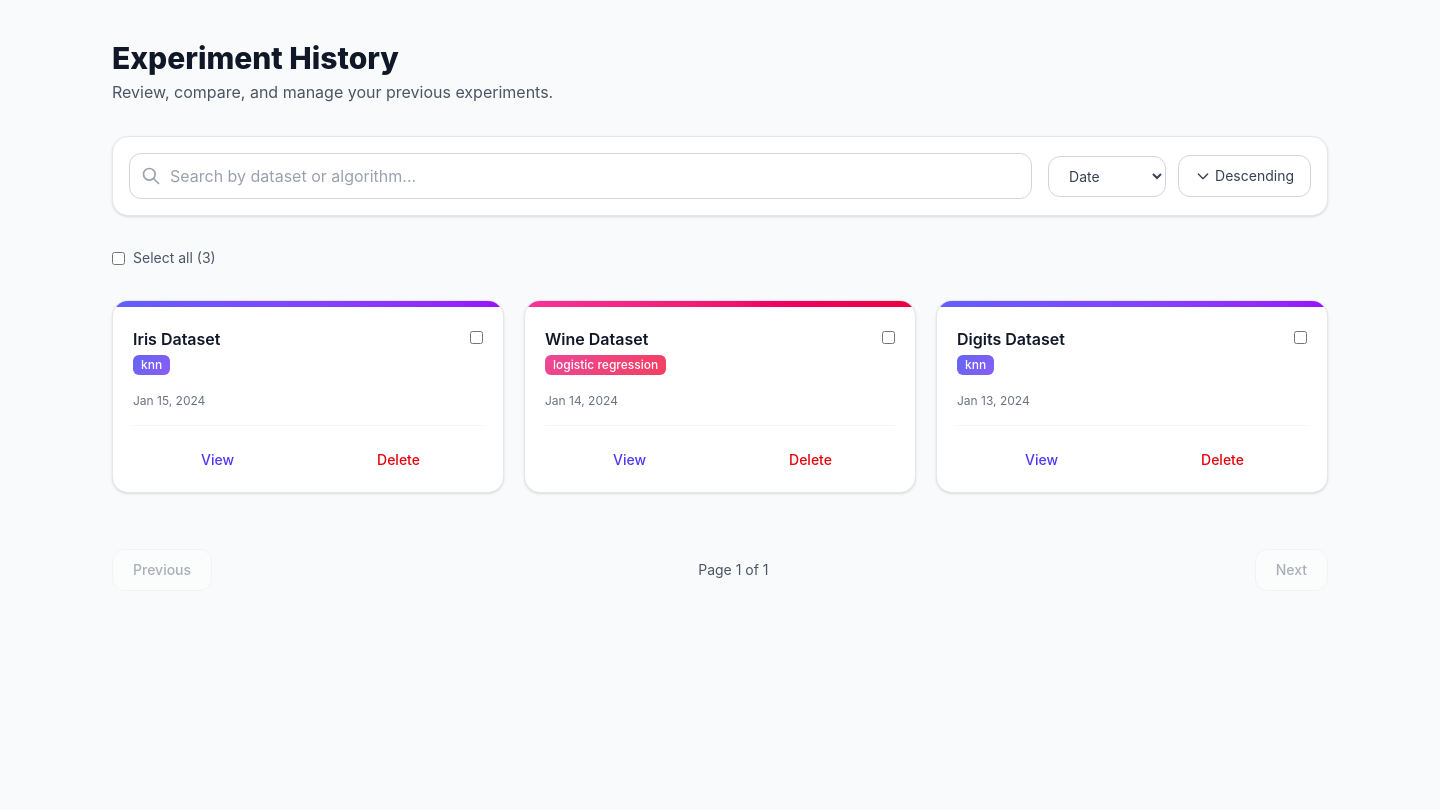
HistoryList › Floating Compare Bar › shows floating compare bar when items are selected
Check: the heading "Iris Dataset" is shown, box [133,329,220,349]
Click the checkbox in the row of "Iris Dataset" at (476, 338), box [470,331,483,344]
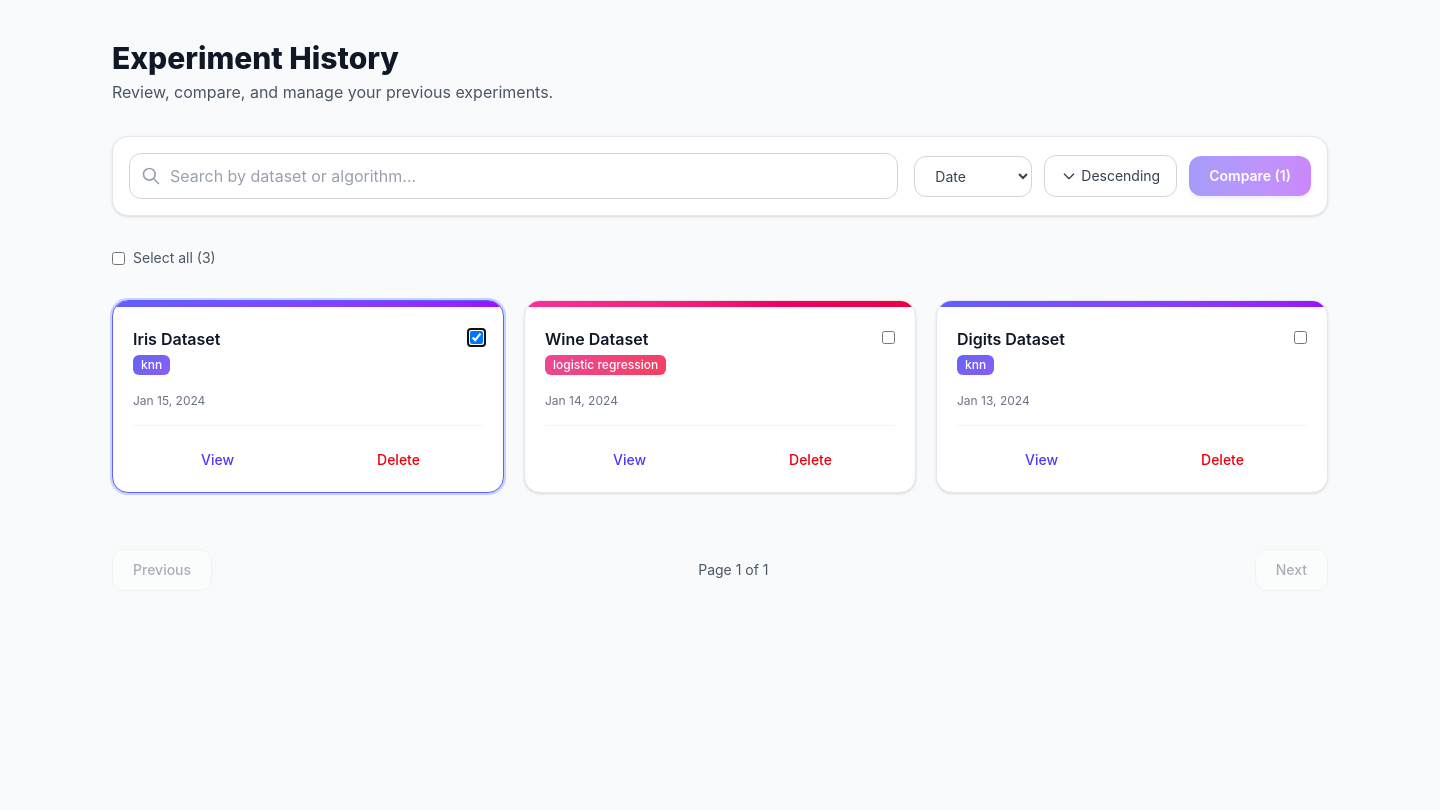
Click the checkbox in the row of "Wine Dataset" at (888, 338), box [882,331,895,344]
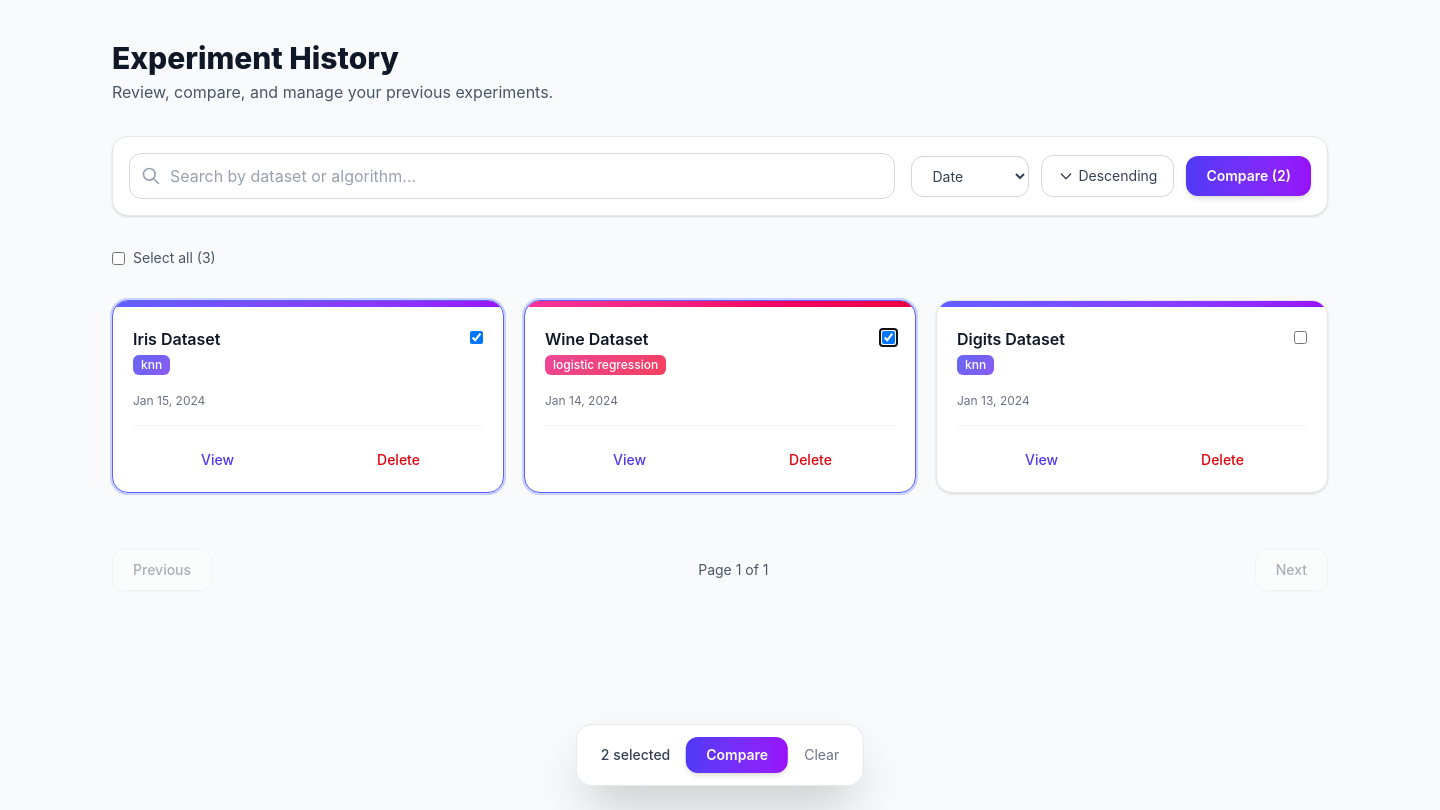
Check: the number of buttons "Compare (2)" is 2, box [1186,156,1311,196]; [686,737,788,773]
Check: the text "2 selected" is shown, box [601,745,670,765]
Check: the button "Clear" is shown, box [804,745,839,765]
